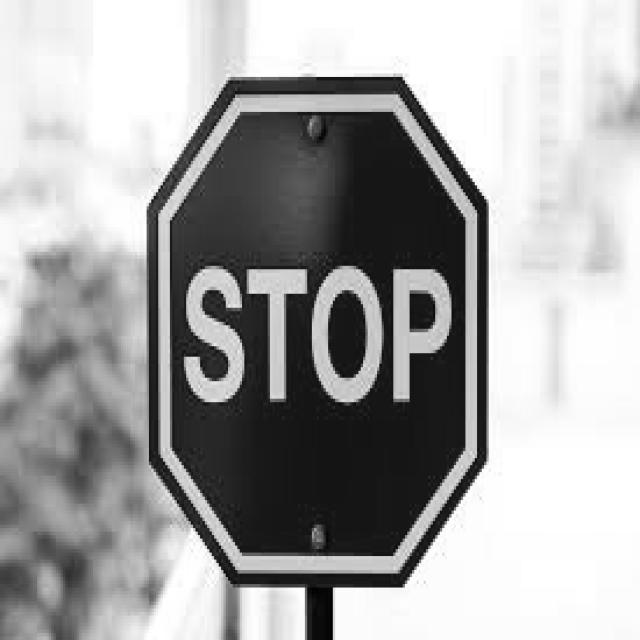stop sign: (150, 81, 488, 582)
